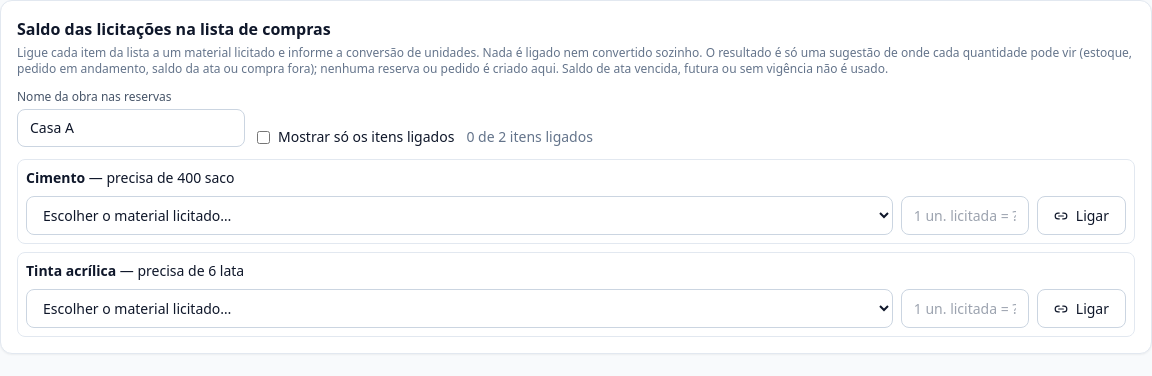
Test: saldo das licitações na lista de compras (tela) › liga com sugestão e fator informado, mostra de onde vem cada quantidade e persiste a ligação
Later steps or results of the test are not shown.
Expected: the text "0 de 2 itens ligados" is shown, [466, 127, 593, 147]
Select "Cimento CP II 50 kg — 10/2026 (saco)" in the dropdown named "Material licitado para Cimento" at [459, 216], box [26, 196, 893, 235]
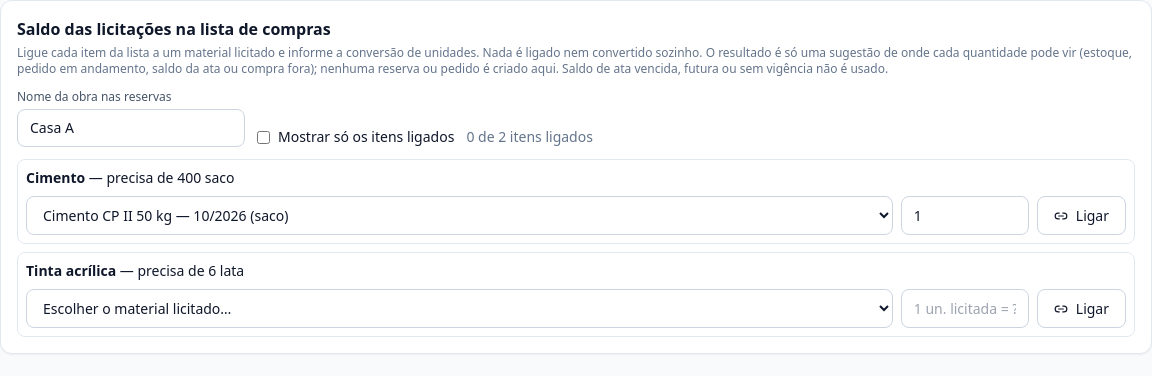
Now the field named "Fator de conversão de Cimento" holds "1", box [901, 196, 1029, 235]
Click the 1st button "Ligar" at [1081, 216], box [1037, 196, 1126, 235]
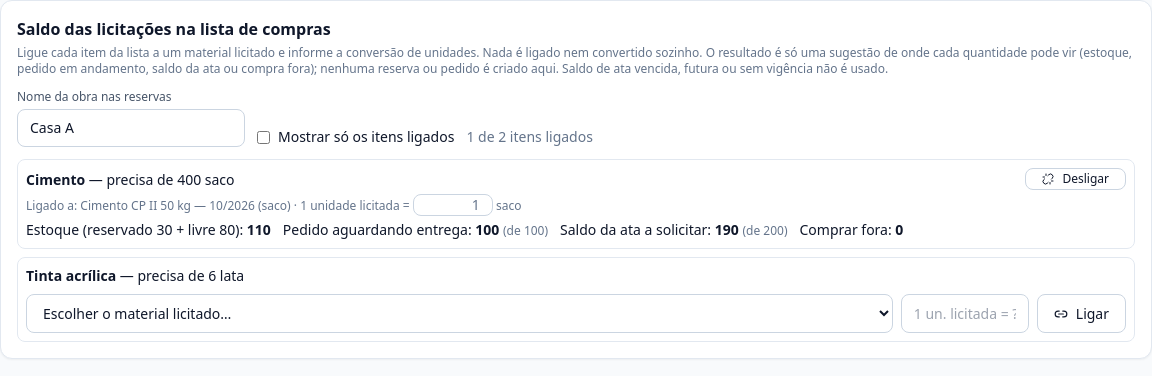
Now the text "Estoque (reservado 30 + livre 80): 110" is shown, box [26, 220, 271, 239]
Now the text "110" is shown, box [247, 220, 271, 239]
Now the text "190" is shown, box [715, 220, 739, 239]
